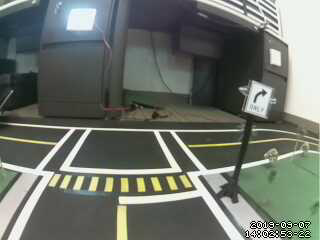Right_only_sign: (247, 77, 270, 121)
